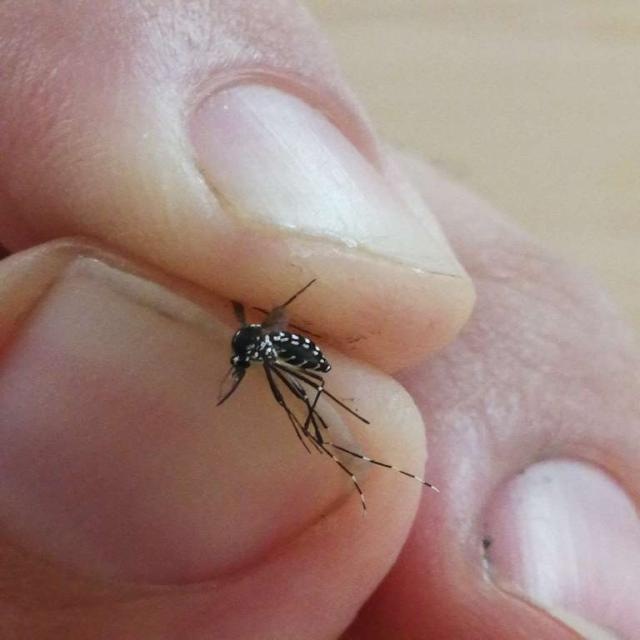albopictus: (198, 271, 441, 514)
